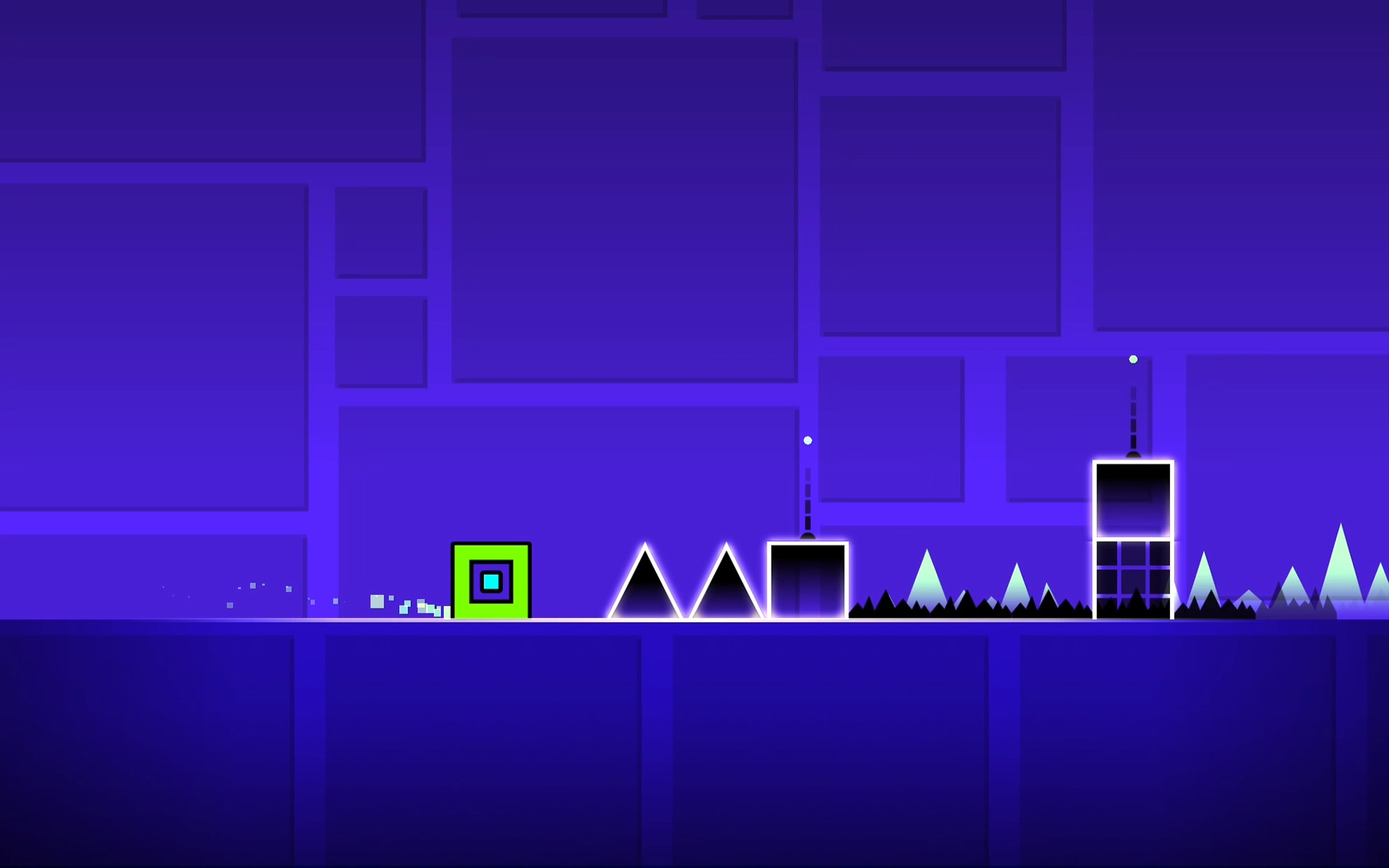Block: (764, 540, 851, 618), (1094, 458, 1173, 537)
Block2: (1094, 540, 1173, 619)
Player: (450, 542, 532, 617)
Spike: (606, 542, 682, 618), (690, 542, 765, 618)
Spike3: (848, 592, 1090, 619), (1259, 564, 1338, 617), (1177, 592, 1254, 619)
